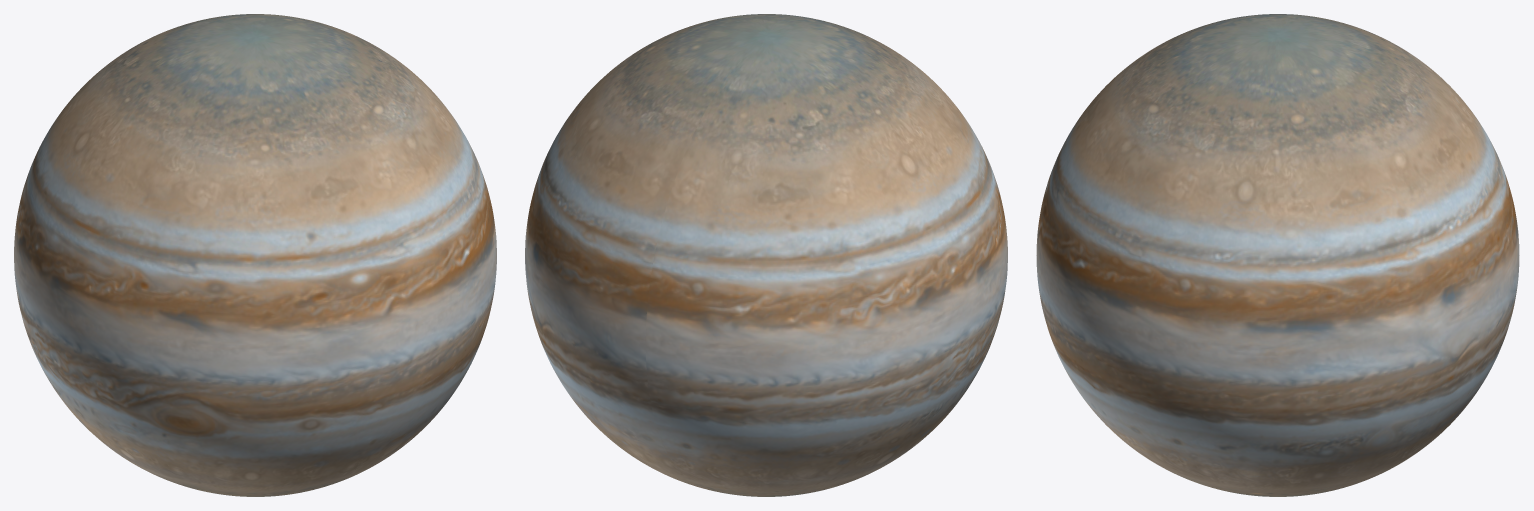
The model's file is jupiter.gltf.
The picture shows the model from 3 angles, left to right: view 1: azimuth 30°, elevation 25°; view 2: azimuth 150°, elevation 25°; view 3: azimuth 270°, elevation 25°; orthographic projection.
Visible parts, largest first — view 1: Earth; view 2: Earth; view 3: Earth.
Part boxes in pixels (x1=…): Earth: x1=14, y1=14, x2=496, y2=496; Earth: x1=525, y1=14, x2=1007, y2=496; Earth: x1=1036, y1=14, x2=1519, y2=496.
Bounding box in the file's own units: 100 × 100 × 100.
1 material, 1 textured.
